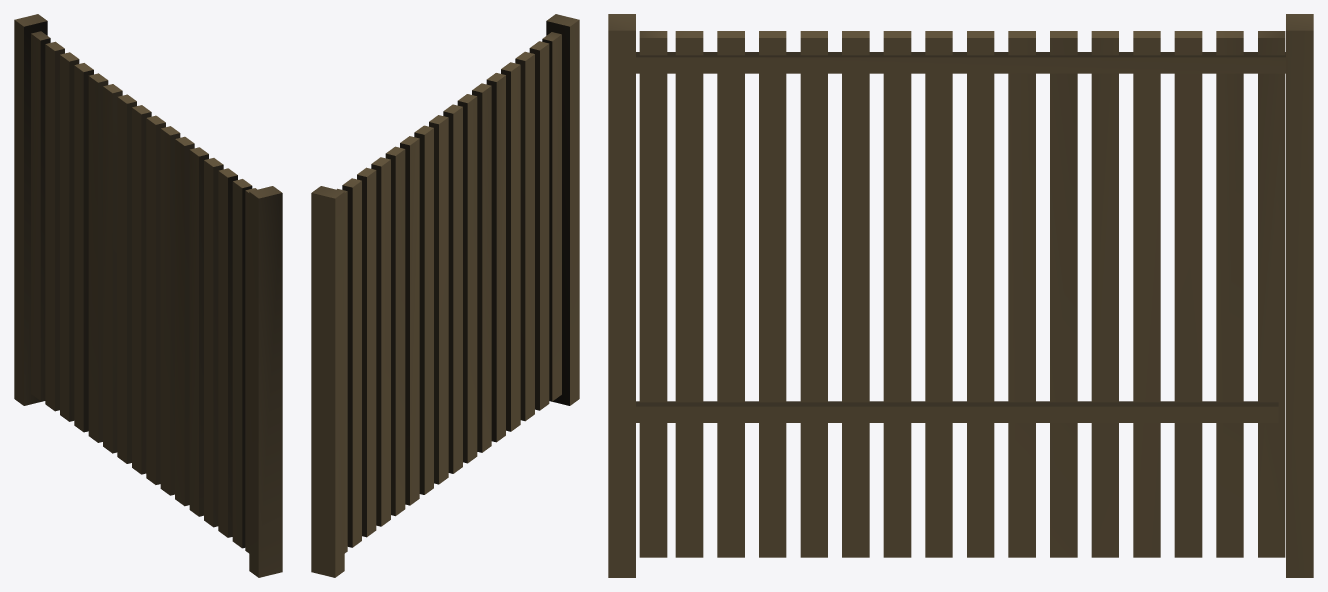
Rendered from Wood_Fence_Dence_Tall.fbx.
The picture shows the model from 3 angles, left to right: view 1: azimuth 30°, elevation 25°; view 2: azimuth 150°, elevation 25°; view 3: azimuth 270°, elevation 25°; orthographic projection. The views are drawn at different scales.
Parts seen in each view (by area): view 1: Wood_Fence_Dence_Tall; view 2: Wood_Fence_Dence_Tall; view 3: Wood_Fence_Dence_Tall.
Part boxes in pixels (x1,y1,x2,y2): Wood_Fence_Dence_Tall: (14, 14, 282, 577); Wood_Fence_Dence_Tall: (311, 14, 579, 577); Wood_Fence_Dence_Tall: (608, 14, 1313, 577).
Bounding box in the file's own units: 0.0103 × 0.1569 × 0.1832.
